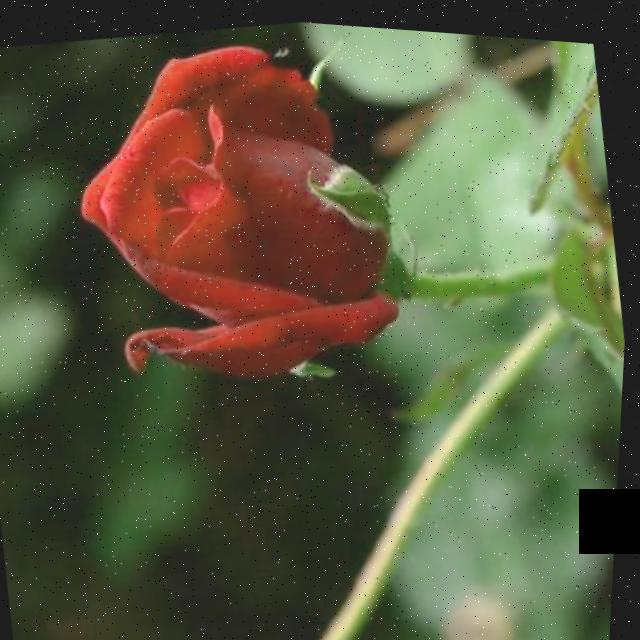rose: (26, 3, 490, 453)
